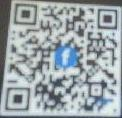qrcode: (6, 4, 119, 115)
